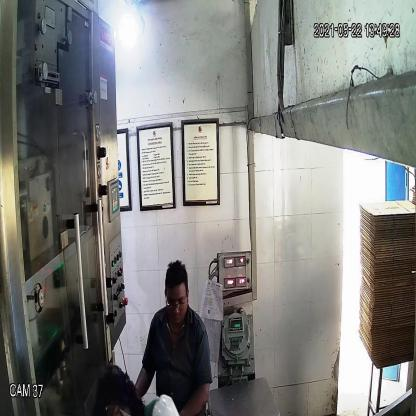goggles: (162, 289, 192, 314)
